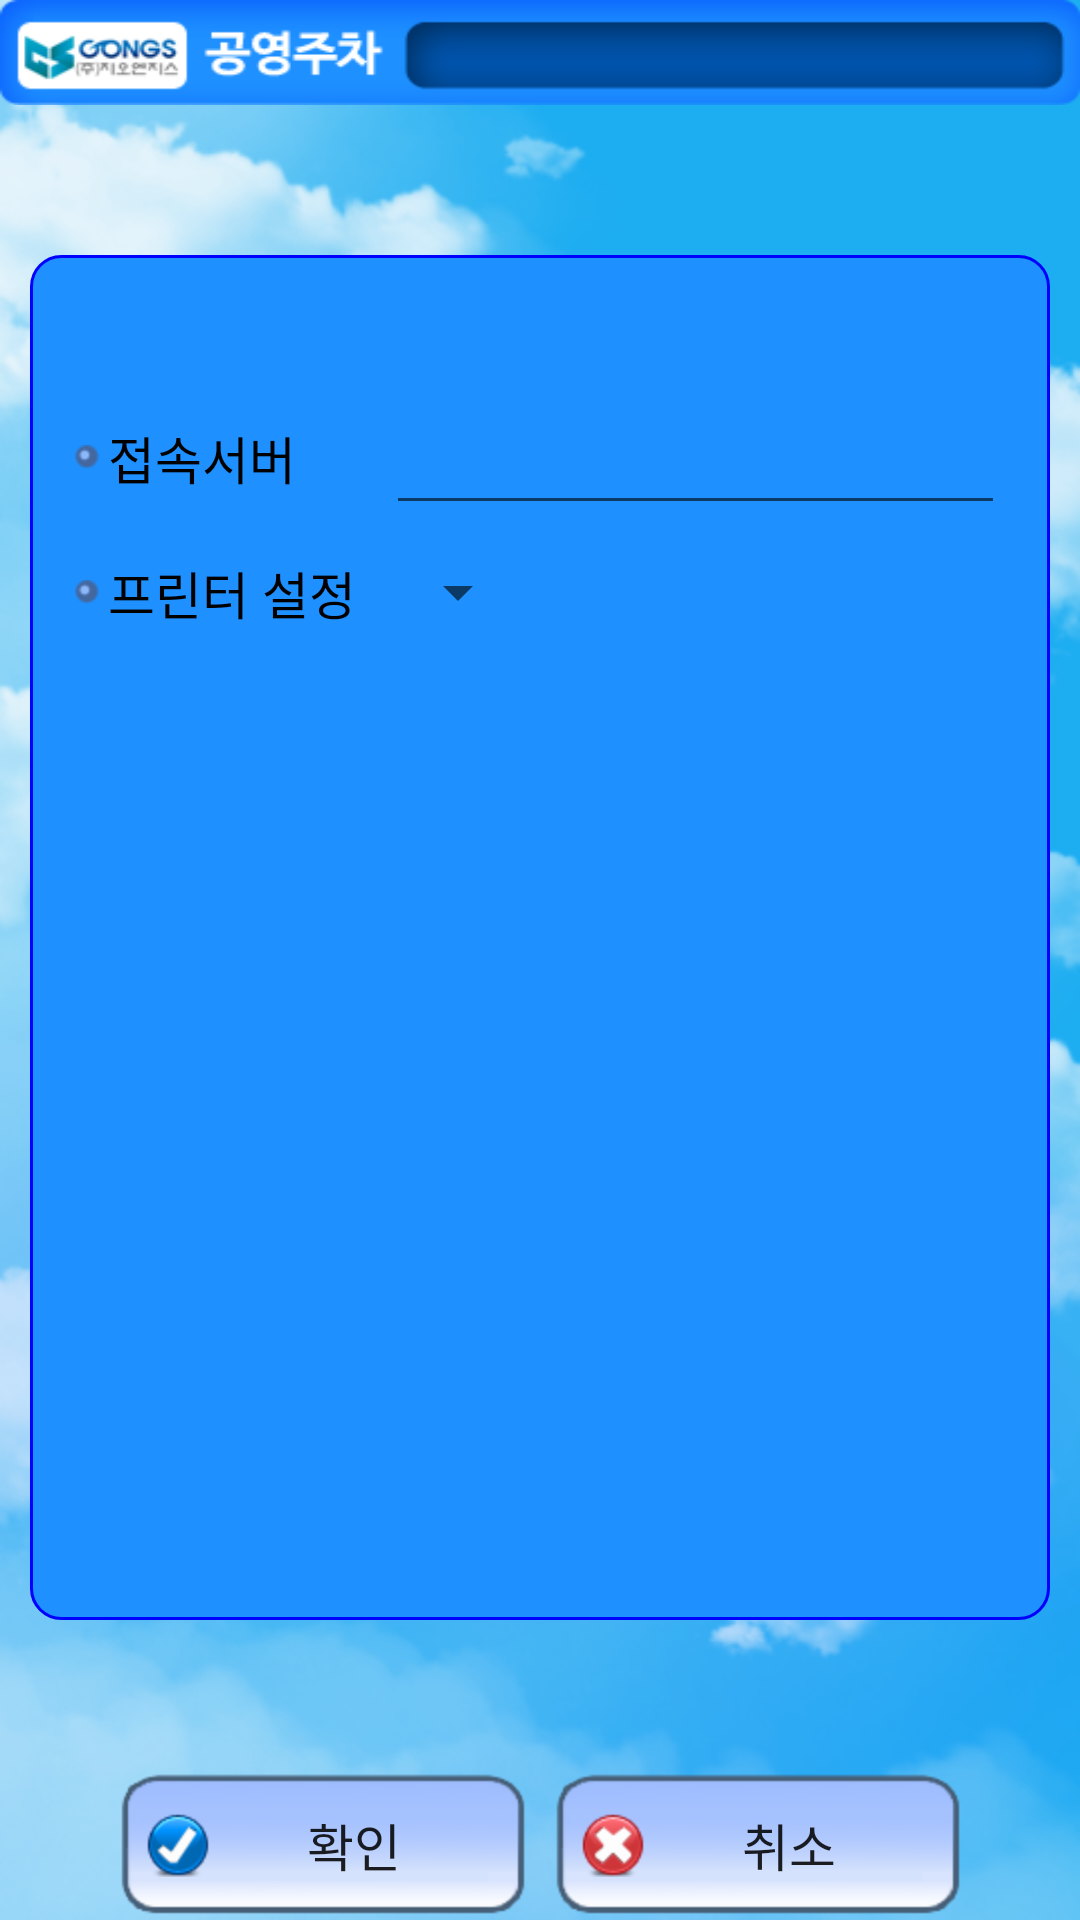

Icon bounding boxes for this 1080px×1920px phone screenshot, format (left=x1, top=y1, right=x2, bottom=y2):
dot: (left=75, top=445, right=99, bottom=468), (left=75, top=580, right=99, bottom=603)
